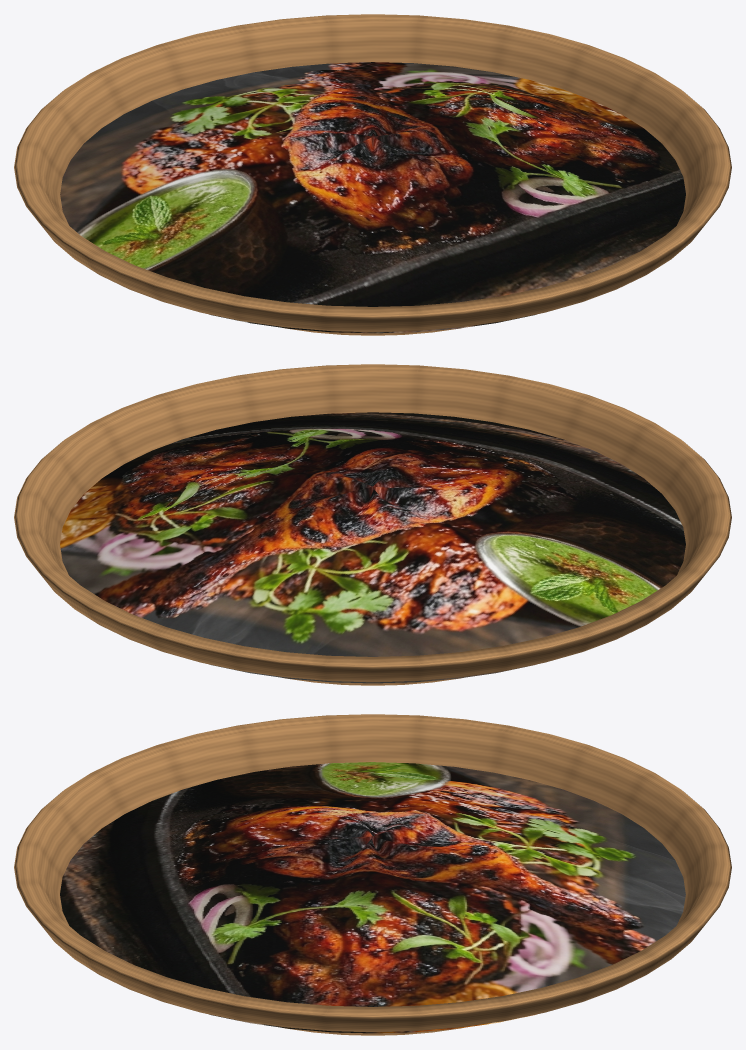
The model's file is tandoori-chicken.glb.
3 views of the same model, one above another, from view 1: azimuth 30°, elevation 25°; view 2: azimuth 150°, elevation 25°; view 3: azimuth 270°, elevation 25° (orthographic).
Visible parts, largest first — view 1: FoodMound, BambooBowl; view 2: FoodMound, BambooBowl; view 3: FoodMound, BambooBowl.
Part boxes in pixels (x1,y1,x2,y2): FoodMound: [60, 62, 685, 333]; BambooBowl: [14, 14, 731, 335]; FoodMound: [60, 412, 685, 683]; BambooBowl: [14, 364, 731, 685]; FoodMound: [60, 762, 685, 1033]; BambooBowl: [14, 714, 731, 1035].
Size of the model in its own units: 0.28 by 0.046 by 0.28.
Materials: 2 (2 with a texture image).
